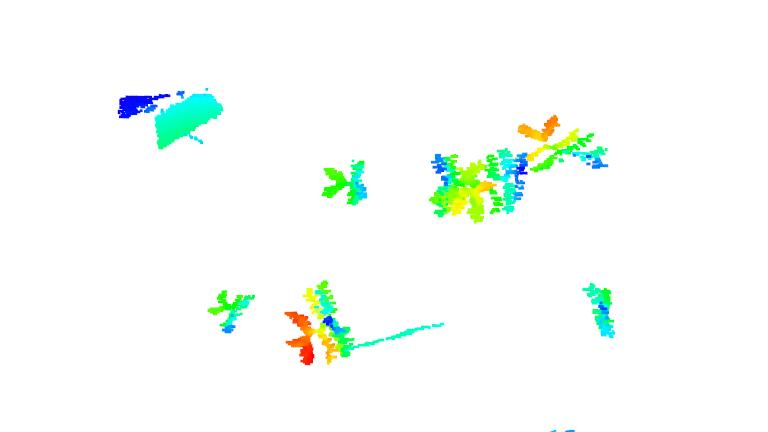chickpea: (427, 146, 527, 219), (281, 277, 356, 369), (515, 113, 610, 169), (319, 157, 371, 207), (206, 285, 258, 333), (583, 280, 617, 339)
